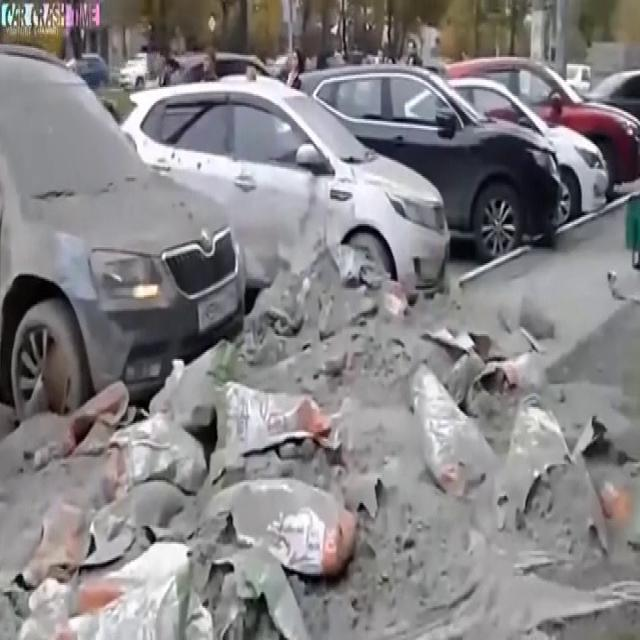accident: (0, 163, 224, 501)
